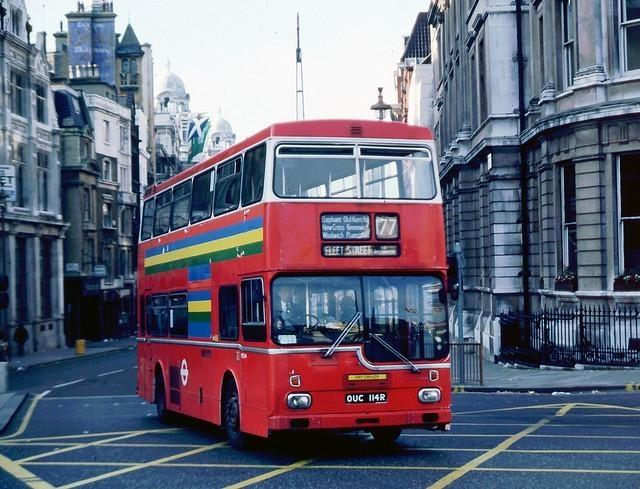bus: (140, 119, 450, 455)
